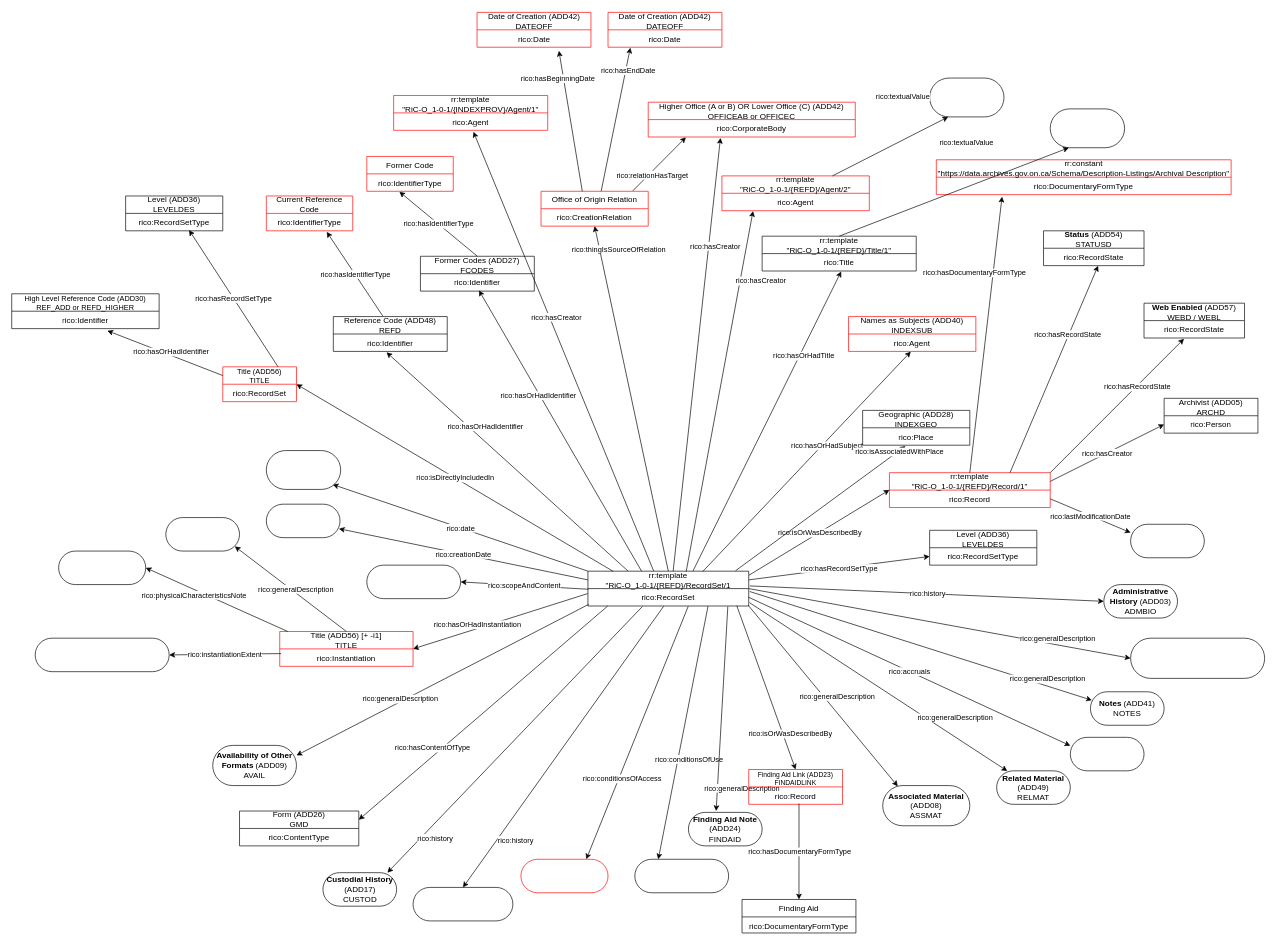
The diagram is 1276 pixels wide and 947 high, and some of its shapes have lost their labels. The centre of each missing label's shape, as x and y in pixels:
Access Restrictions (ADD01) RESTRTX / REST: pixel 564 876
Accruals (ADD02) ACCRUAL: pixel 1107 754
Archivist's Comments (ADD06) or Hidden Notes (ADD29) CMTD or HIDDENNOTES: pixel 1197 658
Date Modified (ADD21) MODDATE: pixel 1167 541
Dates of Accumulation (ADD18) DATEACM: pixel 303 469
Dates of Creation (ADD19) DATECR: pixel 303 521
How to Order (ADD31) HOWTO: pixel 202 534
Immediate Source of Acquisition (ADD33) ISA: pixel 462 904
Physical Condition (ADD45) PHYSCO: pixel 102 567
Physical Description (ADD46) PHDESC: pixel 102 655
rml:reference "CREATOR": pixel 966 97
rml:reference "TITLE": pixel 1087 128
Scope and Content (ADD51) SCOPE: pixel 413 581
Terms Governing Use (ADD55) TGU: pixel 681 876
